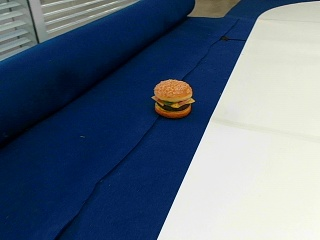burger: (151, 77, 194, 117)
